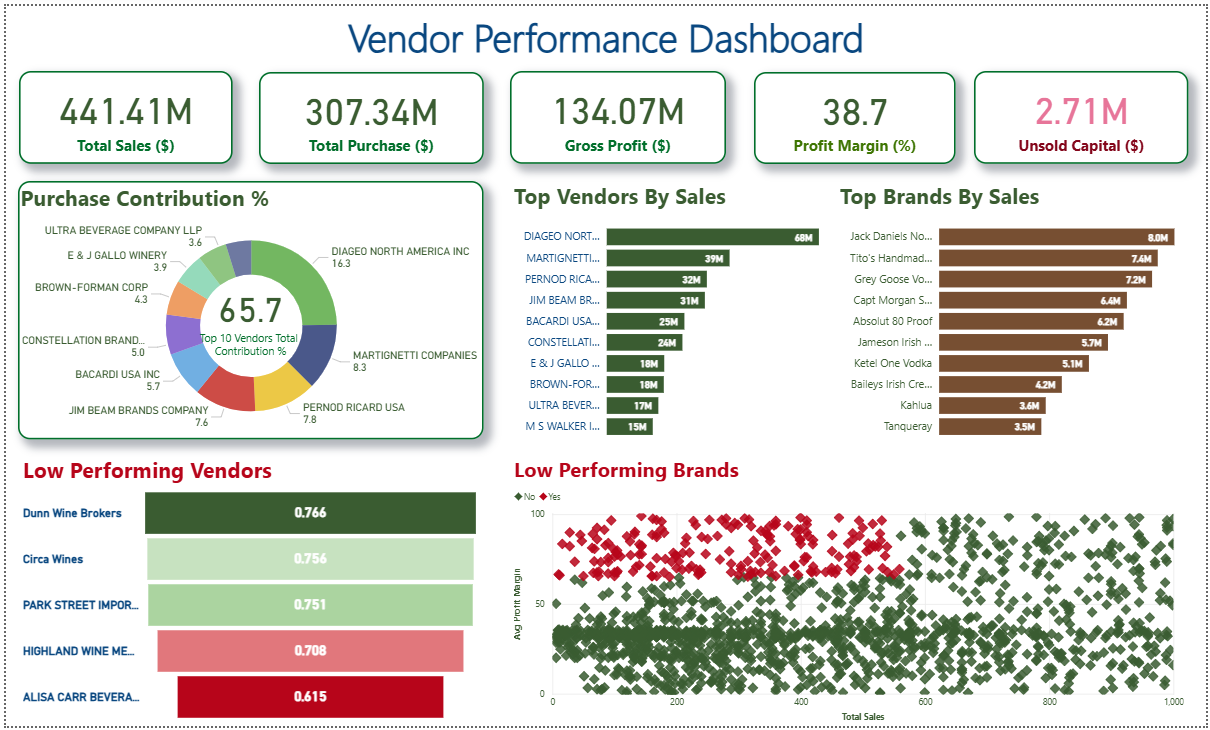

The page's visual inventory and layout, read from the dashboard file:
{"tool":"powerbi","page":{"name":"Page 1","canvas":[1500,900],"ordinal":0},"visuals":[{"type":"card","fields":{"Values":["Sum(vendor_sales_summary.TotalPurchaseDollars)"]},"box":[315.8,82.4,280.9,114.6],"z":0},{"type":"card","fields":{"Values":["Sum(vendor_sales_summary.TotalSalesDollars)"]},"box":[16.8,81,266.9,116],"z":1000},{"type":"card","fields":{"Values":["Sum(vendor_sales_summary.GrossProfit)"]},"box":[630.2,81,269.7,116],"z":2000},{"type":"card","fields":{"Values":["Avg(vendor_sales_summary.ProfitMargin)"]},"box":[935.2,82.2,252.3,114.6],"z":3000},{"type":"card","fields":{"Values":["Sum(vendor_sales_summary.UnsoldCapital)"]},"box":[1210.1,81,268.3,116],"z":4000},{"type":"textbox","box":[0,0,1500,83],"z":5000},{"type":"donutChart","title":"Purchase Contribution % ","fields":{"Category":["PurchaseContribution.VendorName"],"Y":["Sum(PurchaseContribution.PurchaseContribution%)"]},"box":[15,218.8,582.2,322.9],"z":6000},{"type":"card","fields":{"Values":["Sum(PurchaseContribution.PurchaseContribution%)"]},"box":[211.8,266.7,188.2,233.3],"z":7000},{"type":"barChart","title":"Top Vendors By Sales","fields":{"Category":["vendor_sales_summary.VendorName"],"Y":["Sum(vendor_sales_summary.TotalSalesDollars)"]},"box":[629.6,218.8,431.7,333.3],"z":8000},{"type":"barChart","title":"Top Brands By Sales","fields":{"Category":["vendor_sales_summary.Description"],"Y":["Sum(vendor_sales_summary.TotalSalesDollars)"]},"box":[1037,218.8,463,333.3],"z":9000},{"type":"funnel","title":"Low Performing Vendors","fields":{"Category":["LowTurnoverVendor.VendorName"],"Y":["Avg(LowTurnoverVendor.AvgStockTurnOver)"]},"box":[16.2,561.3,581,339.1],"z":10000},{"type":"scatterChart","title":"Low Performing Brands","fields":{"X":["Sum(BrandPerformance.TotalSales)"],"Y":["Sum(BrandPerformance.AvgProfitMargin)"],"Series":["BrandPerformance.TargetBrand"],"Category":["BrandPerformance.Description"]},"box":[629.6,561.3,847.2,339.1],"z":11000}]}

Visuals, with their boxes in screenshot pixels (x1, y1, x2, y2), scaled from the page's 1500x900 canvas onto the 1210x730 screenshot:
card - Sum(vendor_sales_summary.TotalPurchaseDollars): crop(255, 67, 481, 160)
card - Sum(vendor_sales_summary.TotalSalesDollars): crop(14, 66, 229, 160)
card - Sum(vendor_sales_summary.GrossProfit): crop(508, 66, 726, 160)
card - Avg(vendor_sales_summary.ProfitMargin): crop(754, 67, 958, 160)
card - Sum(vendor_sales_summary.UnsoldCapital): crop(976, 66, 1193, 160)
textbox: crop(0, 0, 1209, 67)
"Purchase Contribution % " donutChart: crop(12, 177, 482, 439)
card - Sum(PurchaseContribution.PurchaseContribution%): crop(171, 216, 323, 406)
"Top Vendors By Sales" barChart: crop(508, 177, 856, 448)
"Top Brands By Sales" barChart: crop(837, 177, 1209, 448)
"Low Performing Vendors" funnel: crop(13, 455, 482, 729)
"Low Performing Brands" scatterChart: crop(508, 455, 1191, 729)
